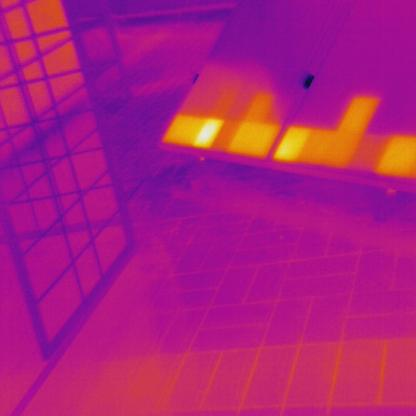hotspot: (232, 119, 276, 158), (381, 132, 415, 177), (276, 126, 313, 164), (340, 95, 380, 128), (166, 115, 201, 144), (246, 92, 275, 118), (199, 118, 223, 148)
